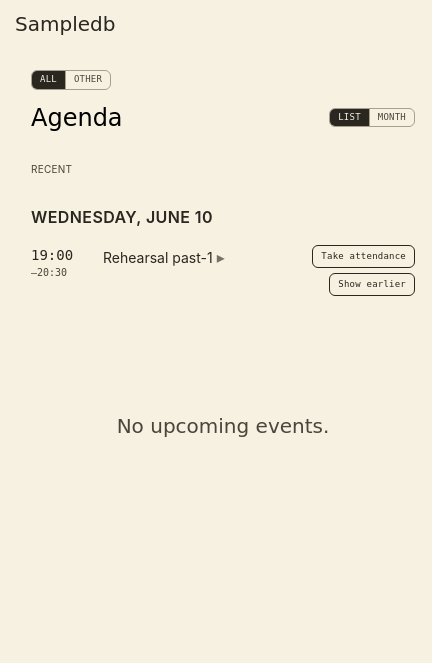
it: +page — the attendance panel opens INSIDE the tapped event row (#87) › tapping 'Take attendance' on the TOP recent row renders the panel inside THAT row — not below the whole agenda
Click the button "Take attendance": (364, 256) x1=312 y1=244 x2=415 y2=268
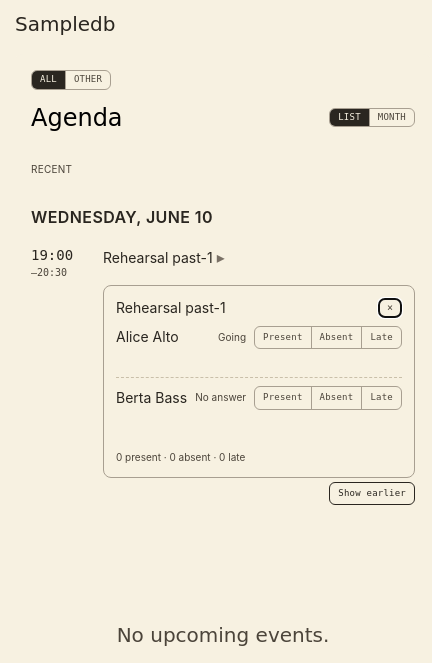
expect the element with test id "attendance-panel" is shown: met, box x1=103 y1=284 x2=415 y2=478
